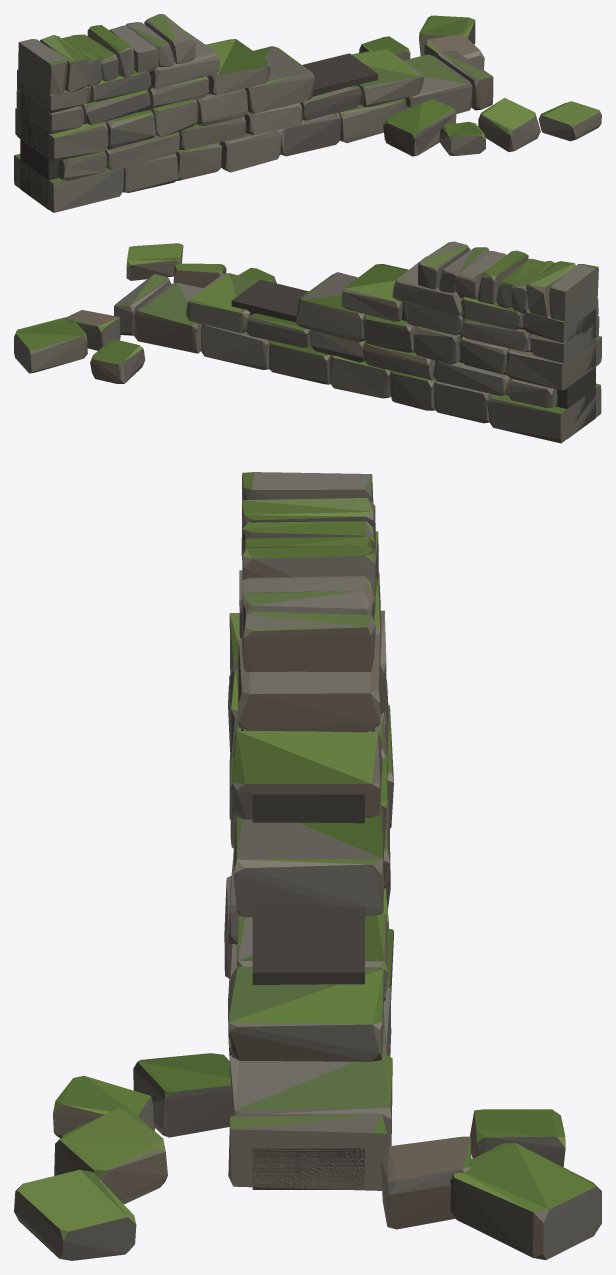
Rendered from wall_end_broken.glb.
The picture shows the model from 3 angles, top to bottom: view 1: azimuth 30°, elevation 25°; view 2: azimuth 150°, elevation 25°; view 3: azimuth 270°, elevation 25°; orthographic projection. The views are drawn at different scales.
Visible parts, largest first — view 1: orchard_wall_end_broken_Stone; view 2: orchard_wall_end_broken_Stone; view 3: orchard_wall_end_broken_Stone.
Boxes of the visible parts, box(x1,y1,x2,y2) form: orchard_wall_end_broken_Stone: box(14, 14, 601, 212); orchard_wall_end_broken_Stone: box(14, 241, 601, 443); orchard_wall_end_broken_Stone: box(14, 472, 601, 1260).
Size of the model in its own units: 4.61 by 1.35 by 2.33.
